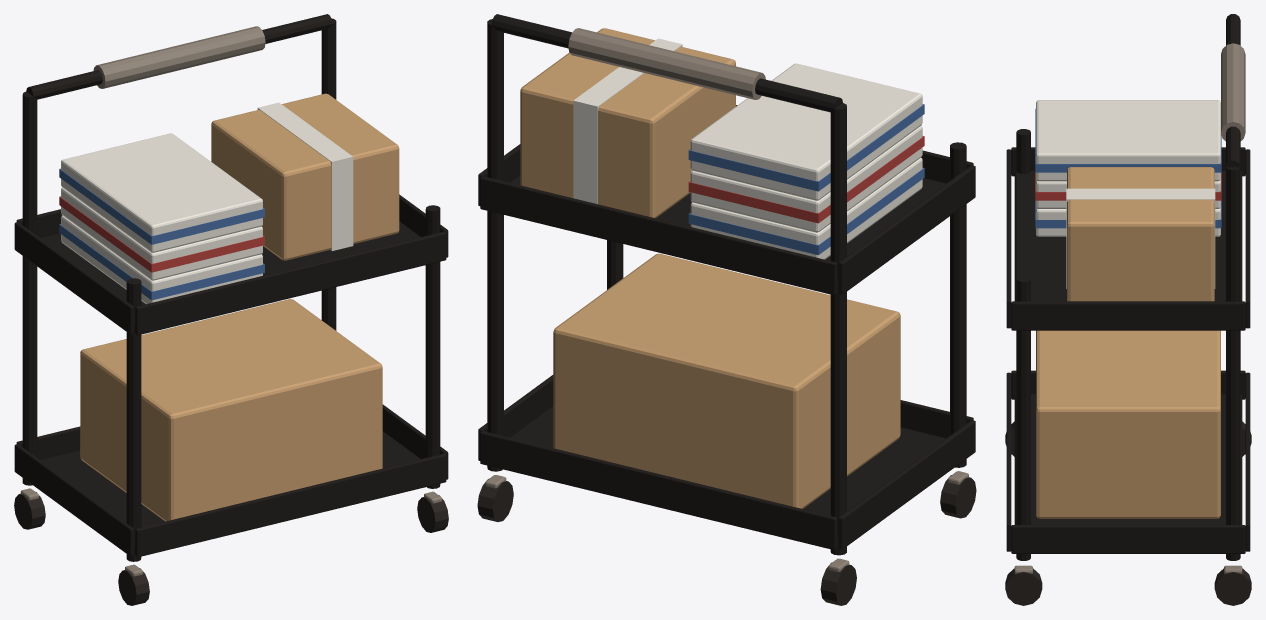
File: hh_cat_office_trolley.glb
The picture shows the model from 3 angles, left to right: view 1: azimuth 30°, elevation 25°; view 2: azimuth 150°, elevation 25°; view 3: azimuth 270°, elevation 25°; orthographic projection. The views are drawn at different scales.
Parts seen in each view (by area): view 1: parcel.001, parcel, paper_ream.002, front_lip, front_lip.001, handle_grip, paper_ream.001, side_lip, side_lip.002, parcel_tape, post, post.002 (+18 smaller); view 2: parcel.001, parcel, paper_ream.002, back_lip.001, back_lip, handle_grip, paper_ream.001, side_lip, side_lip.002, deck, post.001, post (+18 smaller); view 3: parcel.001, parcel, paper_ream.002, side_lip.003, side_lip.001, deck.001, post.002, post.003, deck, handle_grip, parcel_tape, handle_post.001 (+15 smaller).
Boxes of the visible parts, box(x1,y1,x2,y2) form: parcel.001: box(80, 299, 382, 521); parcel: box(211, 93, 399, 260); paper_ream.002: box(61, 133, 262, 252); front_lip: box(135, 453, 446, 557); front_lip.001: box(135, 231, 446, 335); handle_grip: box(93, 26, 265, 88); paper_ream.001: box(61, 187, 262, 280); side_lip: box(14, 444, 134, 556); side_lip.002: box(14, 222, 134, 334); parcel_tape: box(257, 102, 353, 250); post: box(126, 278, 141, 561); post.002: box(425, 205, 440, 488); parcel.001: box(553, 253, 900, 508); parcel: box(520, 28, 735, 218); paper_ream.002: box(690, 63, 922, 200); back_lip.001: box(480, 176, 837, 295); back_lip: box(480, 431, 837, 550); handle_grip: box(568, 28, 765, 99); paper_ream.001: box(690, 126, 922, 232); side_lip: box(838, 420, 975, 549); side_lip.002: box(838, 165, 975, 294); deck: box(509, 405, 945, 547); post.001: box(830, 234, 846, 555); post: box(950, 142, 966, 467); parcel.001: box(1036, 330, 1220, 518); parcel: box(1067, 167, 1214, 301); paper_ream.002: box(1036, 100, 1220, 181); side_lip.003: box(1011, 301, 1245, 330); side_lip.001: box(1011, 525, 1245, 553); deck.001: box(1014, 170, 1242, 301); post.002: box(1016, 276, 1030, 560); post.003: box(1226, 279, 1240, 560); deck: box(1014, 394, 1242, 524); handle_grip: box(1221, 43, 1245, 141); parcel_tape: box(1066, 188, 1215, 288); handle_post.001: box(1226, 167, 1240, 301).
Bounding box in the file's own units: 0.6 × 0.8 × 0.4.
